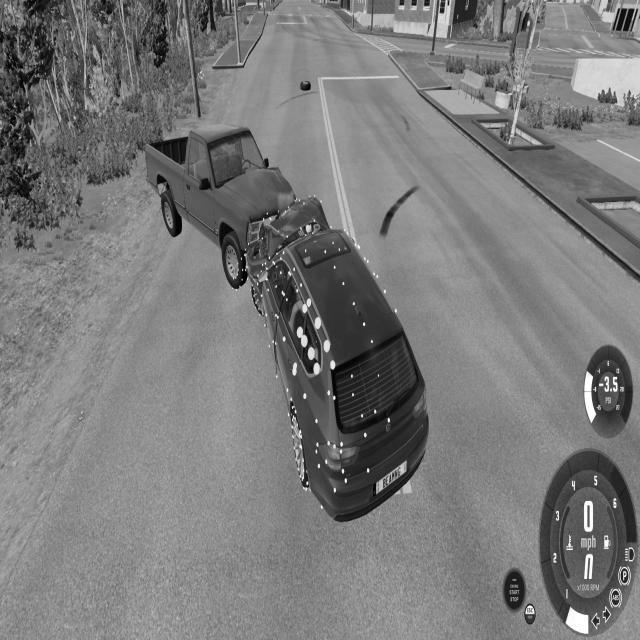accident: (144, 113, 430, 525)
